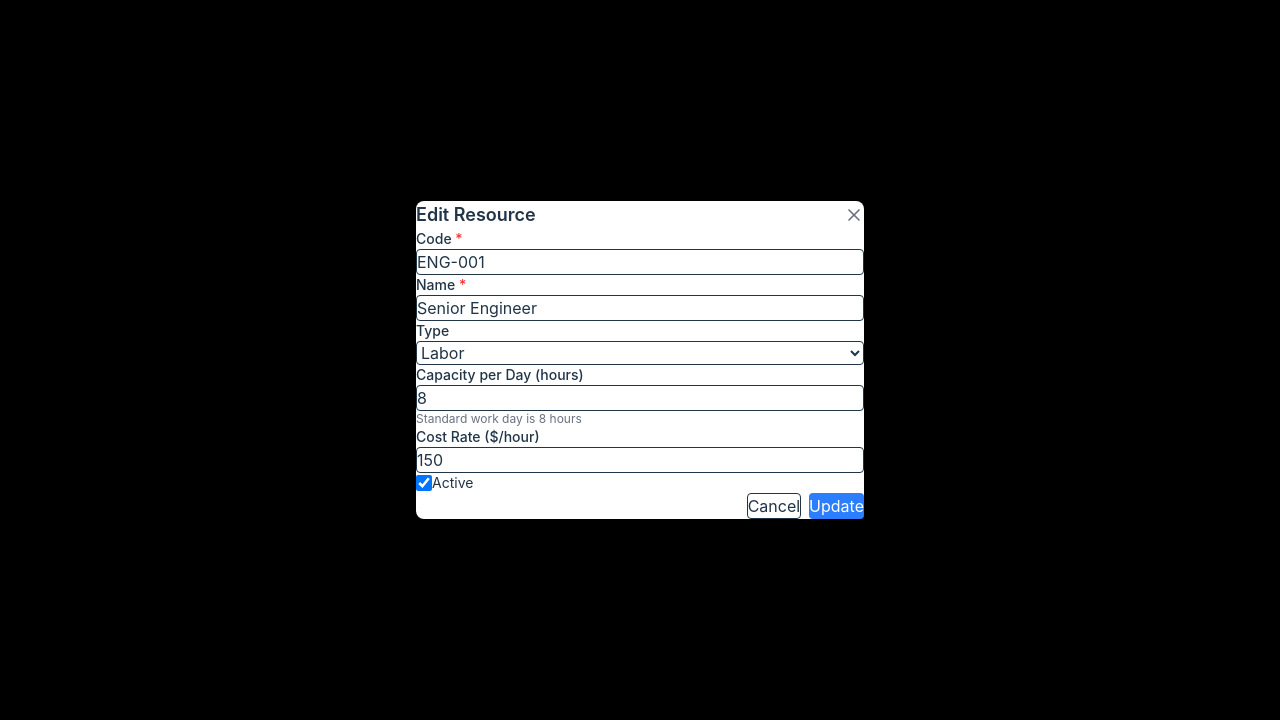
Test case: ResourceForm › submit success and error › shows success toast on successful update
The width and height of the screenshot is (1280, 720).
Replace the text in the field showing "Senior Engineer" with "Staff Engineer" at (640, 308), box [416,295,864,321]
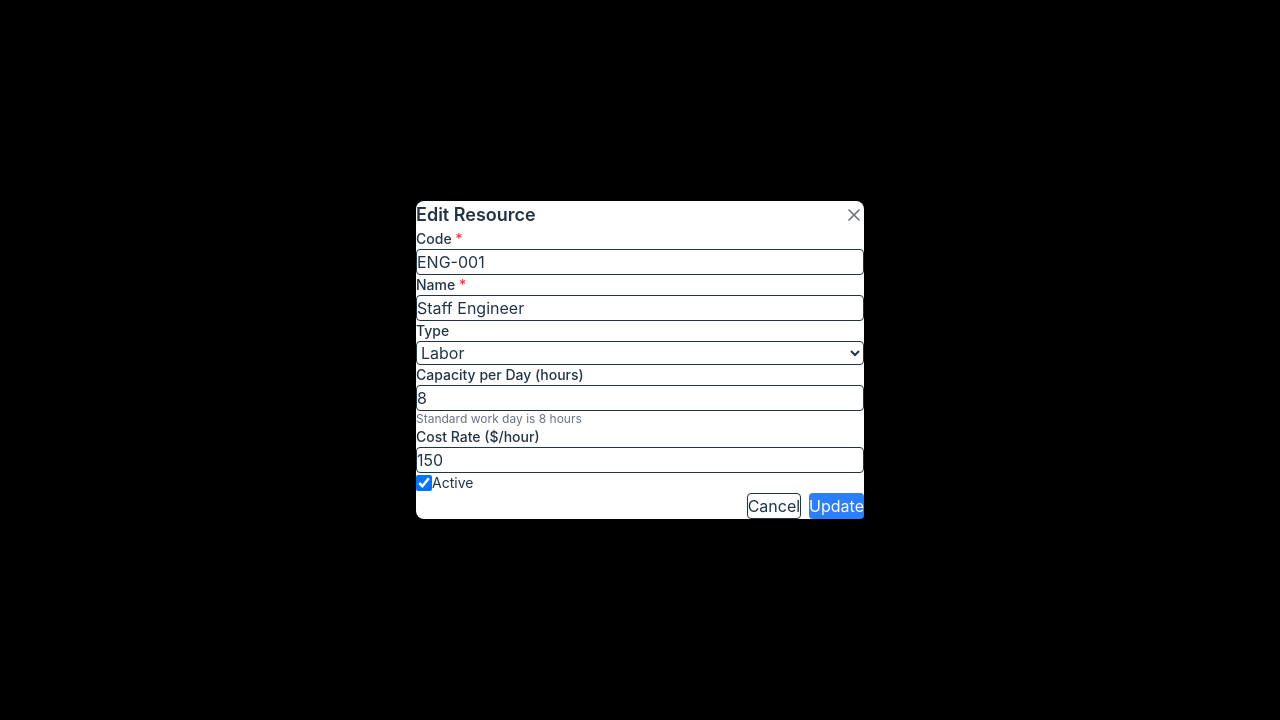
Click the button "Update" at (837, 506), box [809,493,864,519]
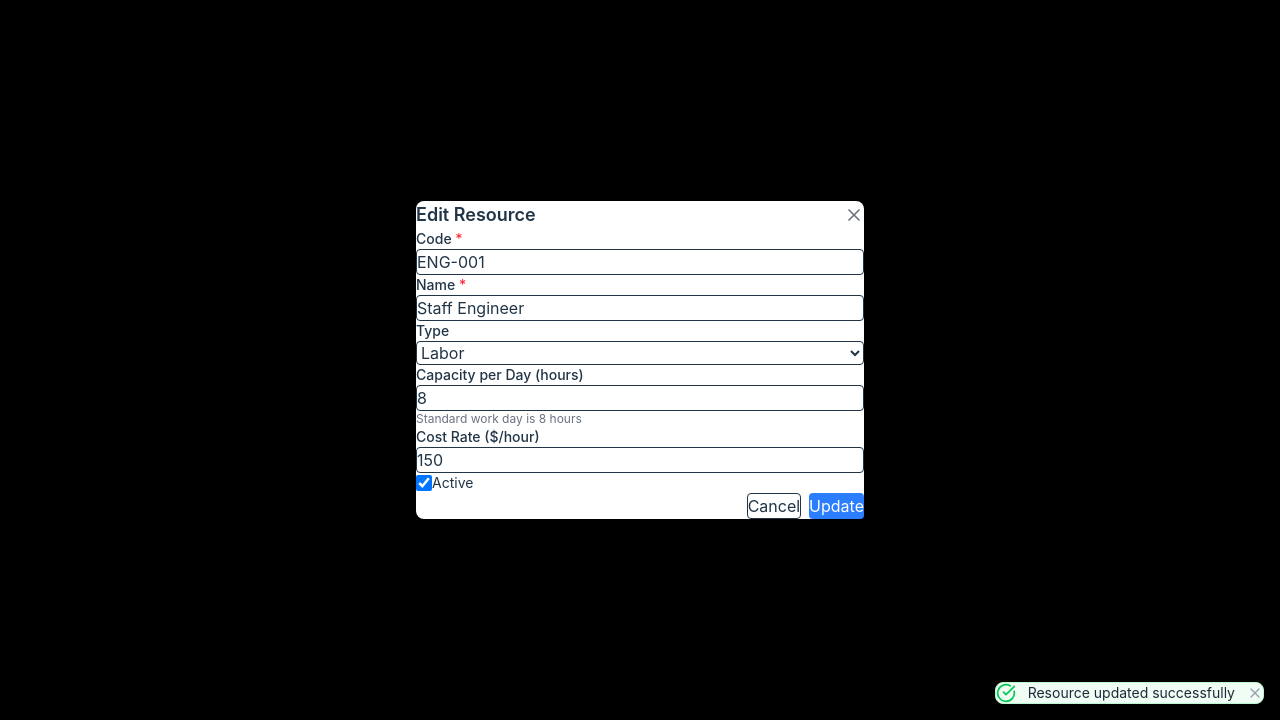
Expected: the text "Resource updated successfully" is shown, [1028,683,1235,703]
